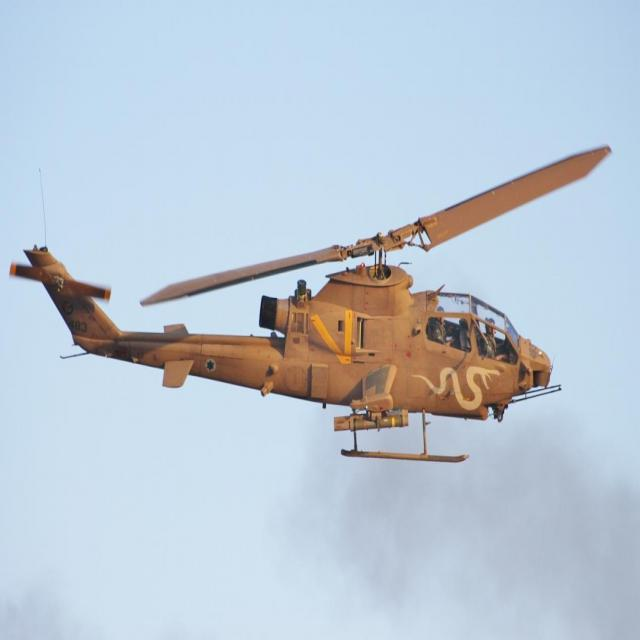MIL_HELO: (0, 129, 623, 474)
